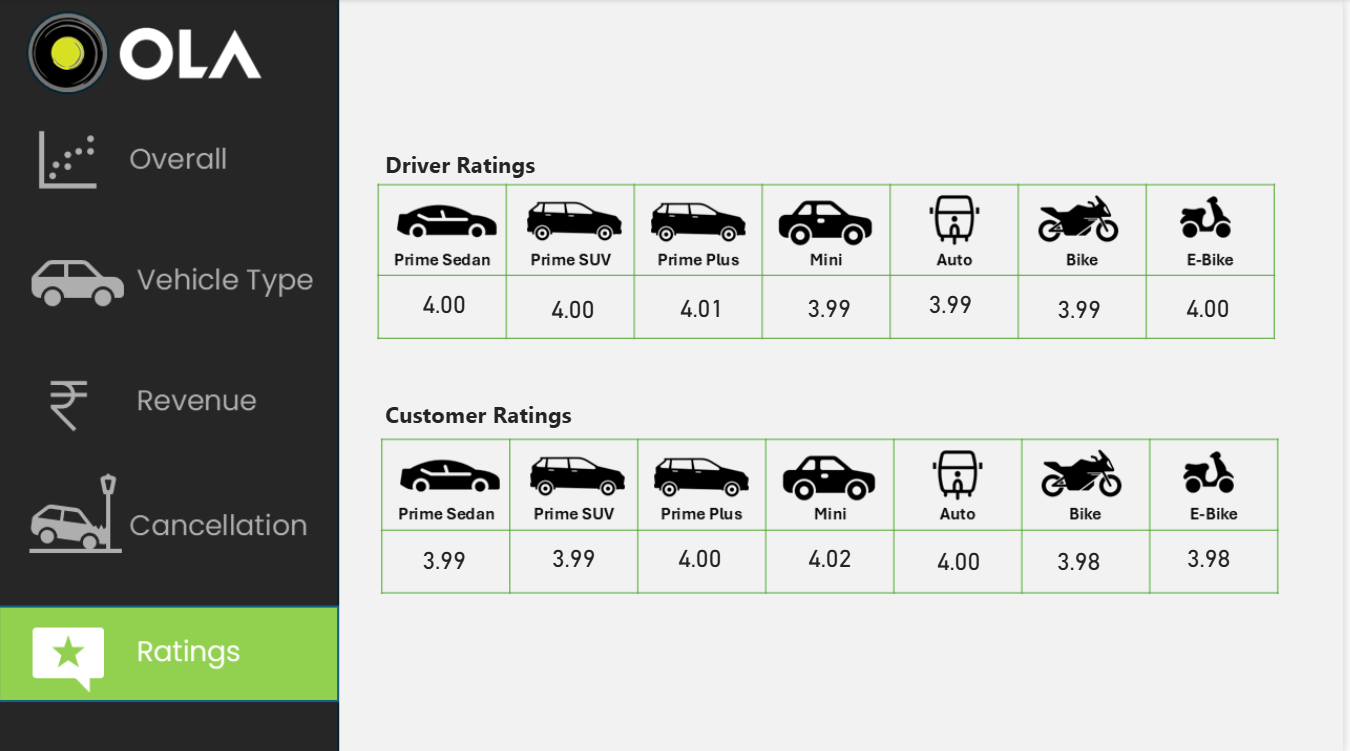

Layout of this report page (visuals, bound fields, positions):
{"tool":"powerbi","page":{"name":"Ratings  ","canvas":[1280,720],"ordinal":4},"visuals":[{"type":"actionButton","box":[0,203.6,322.6,92.9],"z":0},{"type":"actionButton","box":[1.2,329.8,322.6,92.9],"z":1000},{"type":"actionButton","box":[2.4,441.7,322.6,92.9],"z":2000},{"type":"actionButton","box":[0,111.4,323.2,92],"z":3000},{"type":"card","fields":{"Values":["Avg(Bookings.Driver_Ratings)"]},"box":[362.5,262.5,122.2,56.9],"z":4000},{"type":"card","fields":{"Values":["Avg(Bookings.Driver_Ratings)"]},"box":[484.7,266.7,122.2,56.9],"z":5000},{"type":"card","fields":{"Values":["Avg(Bookings.Driver_Ratings)"]},"box":[844.4,262.5,122.2,56.9],"z":6000},{"type":"card","fields":{"Values":["Avg(Bookings.Driver_Ratings)"]},"box":[966.7,266.7,122.2,56.9],"z":7000},{"type":"card","fields":{"Values":["Avg(Bookings.Driver_Ratings)"]},"box":[1088.9,265.3,122.2,56.9],"z":8000},{"type":"card","fields":{"Values":["Avg(Bookings.Driver_Ratings)"]},"box":[729.2,265.3,122.2,56.9],"z":9000},{"type":"card","fields":{"Values":["Avg(Bookings.Driver_Ratings)"]},"box":[606.9,265.3,122.2,56.9],"z":10000},{"type":"card","fields":{"Values":["Avg(Bookings.Customer_Rating)"]},"box":[362.5,505.6,122.2,56.9],"z":11000},{"type":"textbox","box":[362.3,138.6,215.4,38.4],"z":18000},{"type":"textbox","box":[362.3,376,223.7,39.8],"z":19000},{"type":"card","fields":{"Values":["Avg(Bookings.Customer_Rating)"]},"box":[484.4,505,123.5,56.3],"z":19001},{"type":"card","fields":{"Values":["Avg(Bookings.Customer_Rating)"]},"box":[605.1,505,123.5,56.3],"z":19002},{"type":"card","fields":{"Values":["Avg(Bookings.Customer_Rating)"]},"box":[728.6,505,123.5,56.3],"z":19003},{"type":"card","fields":{"Values":["Avg(Bookings.Customer_Rating)"]},"box":[850.8,507.7,123.5,56.3],"z":19004},{"type":"card","fields":{"Values":["Avg(Bookings.Customer_Rating)"]},"box":[966,507.7,123.5,56.3],"z":19005},{"type":"card","fields":{"Values":["Avg(Bookings.Customer_Rating)"]},"box":[1089.5,505,123.5,56.3],"z":19006}]}

Visuals, with their boxes on the page's 1280x720 design canvas (x1, y1, x2, y2). These are canvas units, not pixel positions in the 1350x751 screenshot, which may show the page scaled, cropped or inside an application window:
actionButton: 0/204/323/296
actionButton: 1/330/324/423
actionButton: 2/442/325/535
actionButton: 0/111/323/203
card - Avg(Bookings.Driver_Ratings): 362/262/485/319
card - Avg(Bookings.Driver_Ratings): 485/267/607/324
card - Avg(Bookings.Driver_Ratings): 844/262/967/319
card - Avg(Bookings.Driver_Ratings): 967/267/1089/324
card - Avg(Bookings.Driver_Ratings): 1089/265/1211/322
card - Avg(Bookings.Driver_Ratings): 729/265/851/322
card - Avg(Bookings.Driver_Ratings): 607/265/729/322
card - Avg(Bookings.Customer_Rating): 362/506/485/562
textbox: 362/139/578/177
textbox: 362/376/586/416
card - Avg(Bookings.Customer_Rating): 484/505/608/561
card - Avg(Bookings.Customer_Rating): 605/505/729/561
card - Avg(Bookings.Customer_Rating): 729/505/852/561
card - Avg(Bookings.Customer_Rating): 851/508/974/564
card - Avg(Bookings.Customer_Rating): 966/508/1090/564
card - Avg(Bookings.Customer_Rating): 1090/505/1213/561
